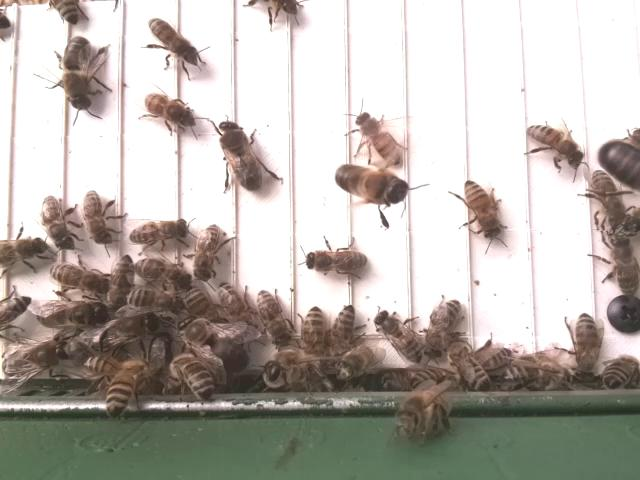Drone: (177, 312, 249, 376), (216, 115, 267, 195), (330, 160, 412, 208), (57, 33, 101, 114), (0, 335, 71, 378), (35, 297, 110, 333)
Worker: (522, 119, 584, 169), (354, 107, 404, 166), (372, 308, 420, 363), (462, 175, 502, 240), (422, 297, 464, 358), (105, 356, 146, 416), (146, 15, 197, 63), (255, 285, 292, 349), (191, 222, 228, 283), (39, 192, 75, 254), (142, 90, 198, 129), (131, 214, 191, 250), (586, 169, 623, 226), (572, 310, 603, 378), (46, 261, 111, 293), (326, 301, 358, 366), (608, 233, 640, 298), (0, 230, 50, 271), (79, 187, 113, 246), (303, 246, 370, 275), (109, 252, 138, 313), (300, 305, 328, 364)
